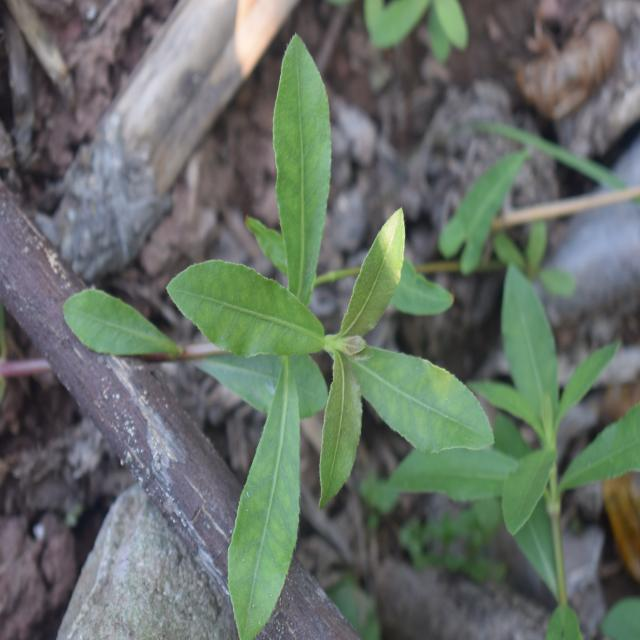Alligatorweed: (116, 56, 427, 588)
